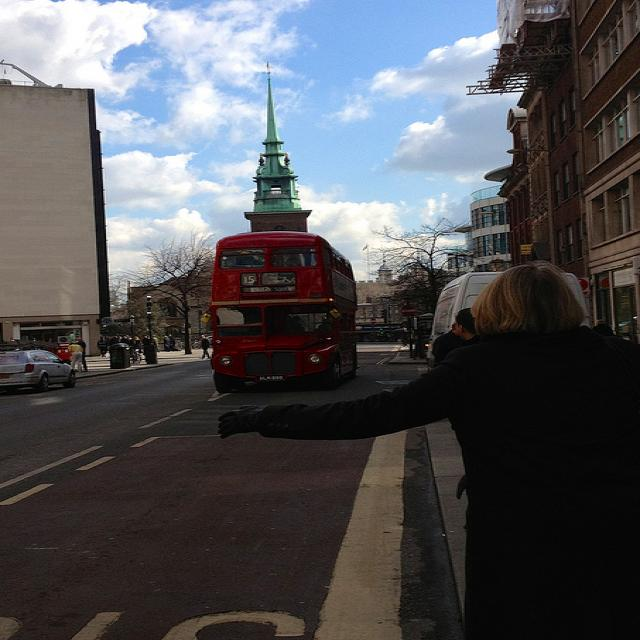Vehicle: (216, 232, 365, 402), (0, 351, 78, 394)
